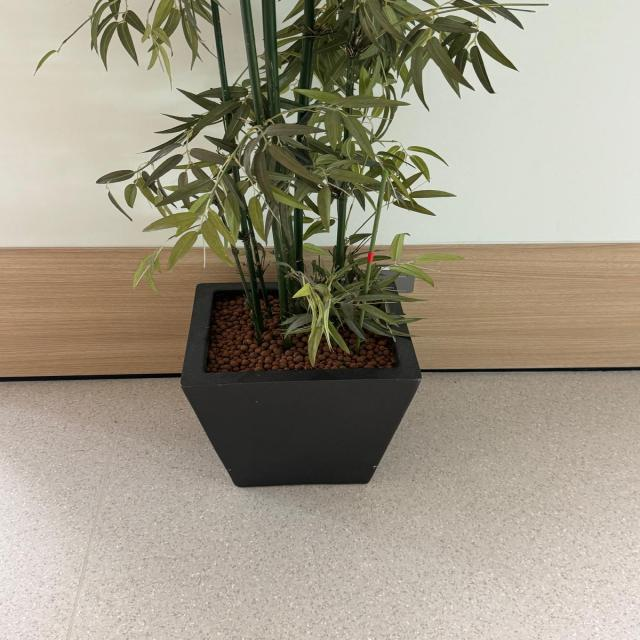Pot: (180, 278, 424, 488)
